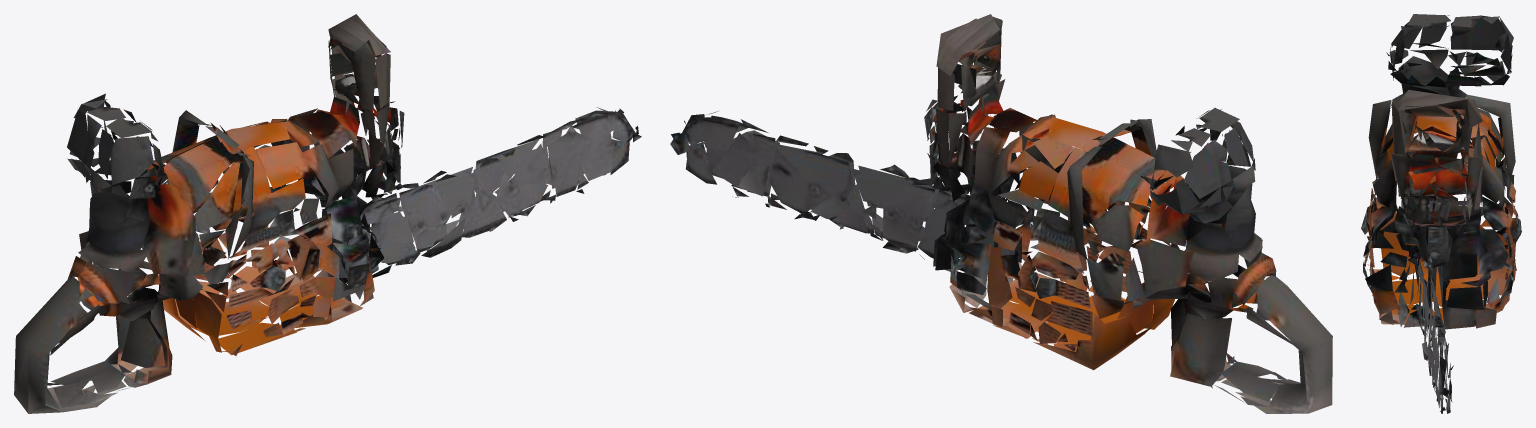
Rendered from forked-standard.glb.
The picture shows the model from 3 angles, left to right: view 1: azimuth 30°, elevation 25°; view 2: azimuth 150°, elevation 25°; view 3: azimuth 270°, elevation 25°; orthographic projection. The views are drawn at different scales.
Parts seen in each view (by area): view 1: HMH Weapon | forked-standard; view 2: HMH Weapon | forked-standard; view 3: HMH Weapon | forked-standard.
Part boxes in pixels (<box>): HMH Weapon | forked-standard: <box>14,14,641,413</box>; HMH Weapon | forked-standard: <box>670,14,1332,413</box>; HMH Weapon | forked-standard: <box>1361,14,1521,413</box>.
Bounding box in the file's own units: 0.937 × 0.4286 × 0.2171.
1 material, 1 textured.
